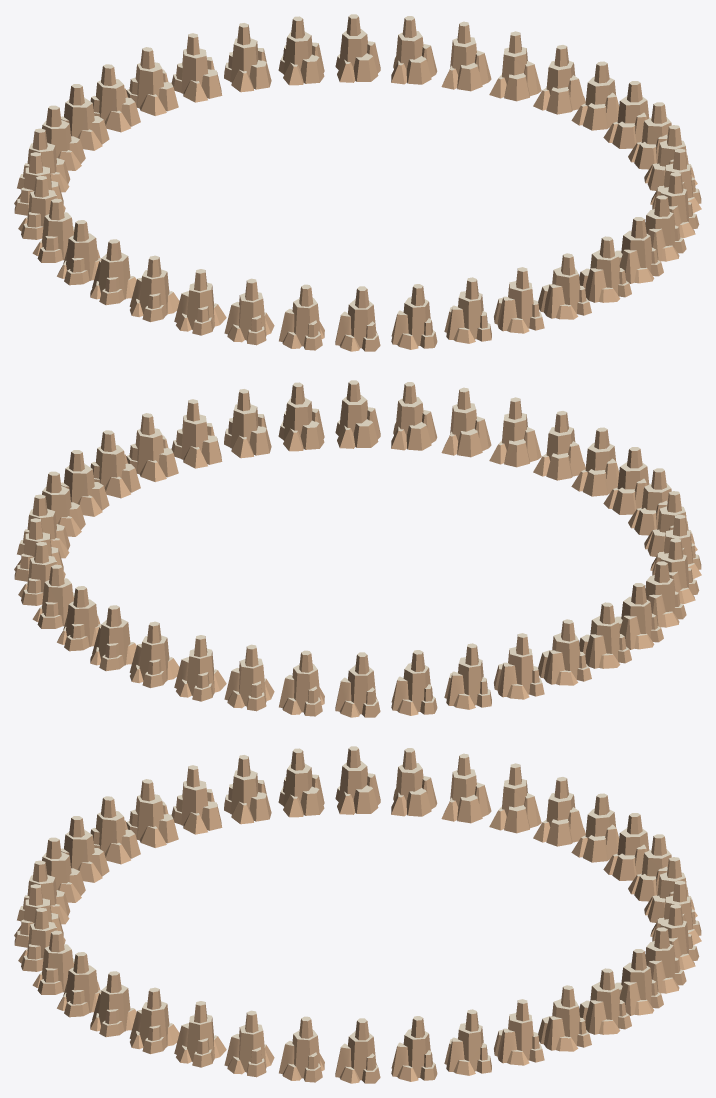
File: edges.glb
3 views of the same model, one above another, from view 1: azimuth 30°, elevation 25°; view 2: azimuth 150°, elevation 25°; view 3: azimuth 270°, elevation 25° (orthographic).
Parts seen in each view (by area): view 1: formation_rock; view 2: formation_rock; view 3: formation_rock.
Part boxes in pixels (x1=…): formation_rock: x1=14, y1=14, x2=701, y2=351; formation_rock: x1=14, y1=380, x2=701, y2=717; formation_rock: x1=14, y1=746, x2=701, y2=1083.
Size of the model in its own units: 25.13 by 2.17 by 25.13.
